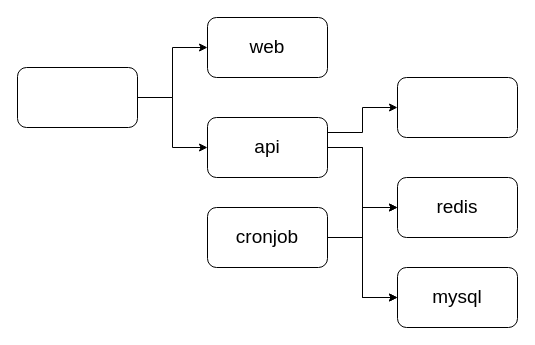
The diagram is 535 pixels wide and 345 high, and some of its shapes have lost their labels. Each missing label, with the centre of its shape:
"mailer" belongs at point 457,107.
"nginx" belongs at point 77,97.
